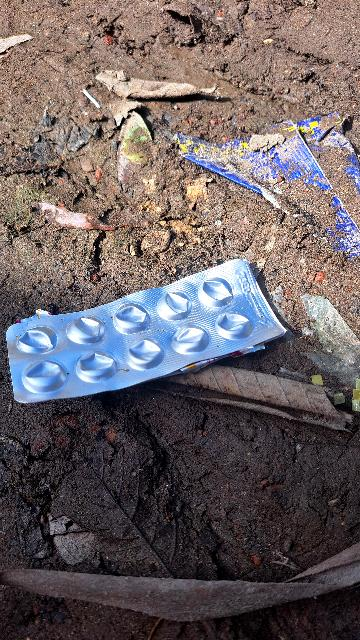medicine: (0, 246, 292, 402)
